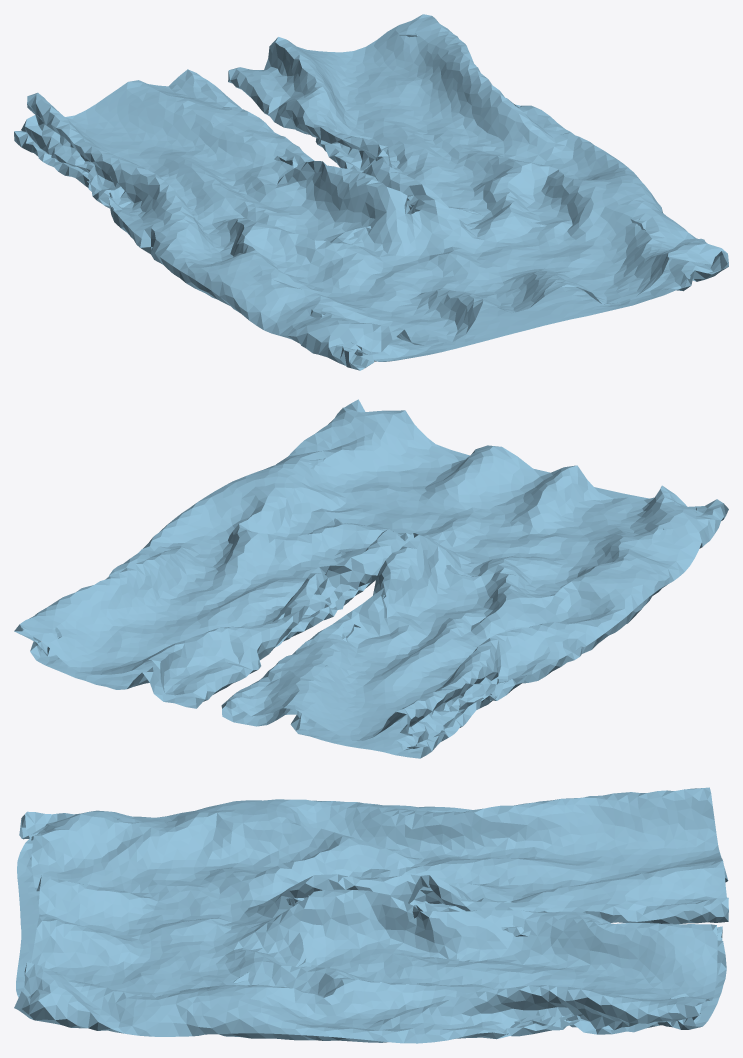
Rendered from frame_01.glb.
3 renders of one model, top to bottom at view 1: azimuth 30°, elevation 25°; view 2: azimuth 150°, elevation 25°; view 3: azimuth 270°, elevation 25°, orthographic. The views are drawn at different scales.
Visible parts, largest first — view 1: frame_01.obj; view 2: frame_01.obj; view 3: frame_01.obj.
Part boxes in pixels (bbox=[...]): frame_01.obj: bbox=[14, 14, 728, 370]; frame_01.obj: bbox=[14, 399, 728, 758]; frame_01.obj: bbox=[14, 787, 728, 1043].
Size of the model in its own units: 1.24 by 0.1311 by 1.61.
